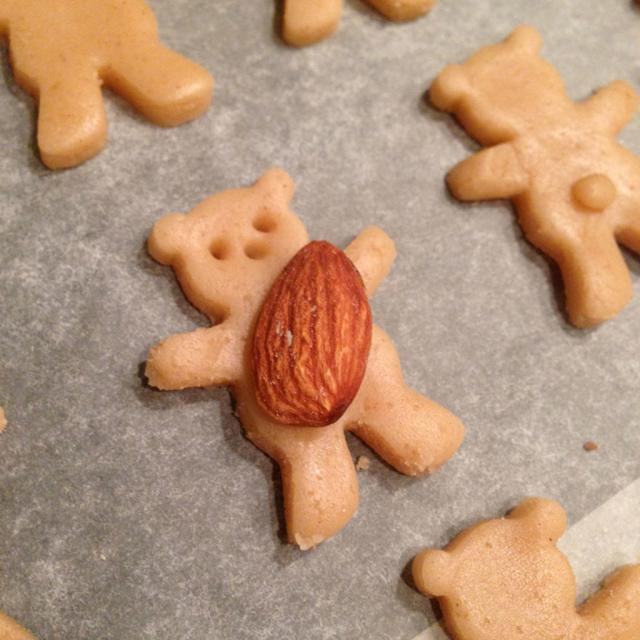Cookie: (143, 168, 466, 550), (428, 28, 640, 334), (0, 0, 217, 170), (409, 495, 639, 640), (277, 0, 436, 50)
